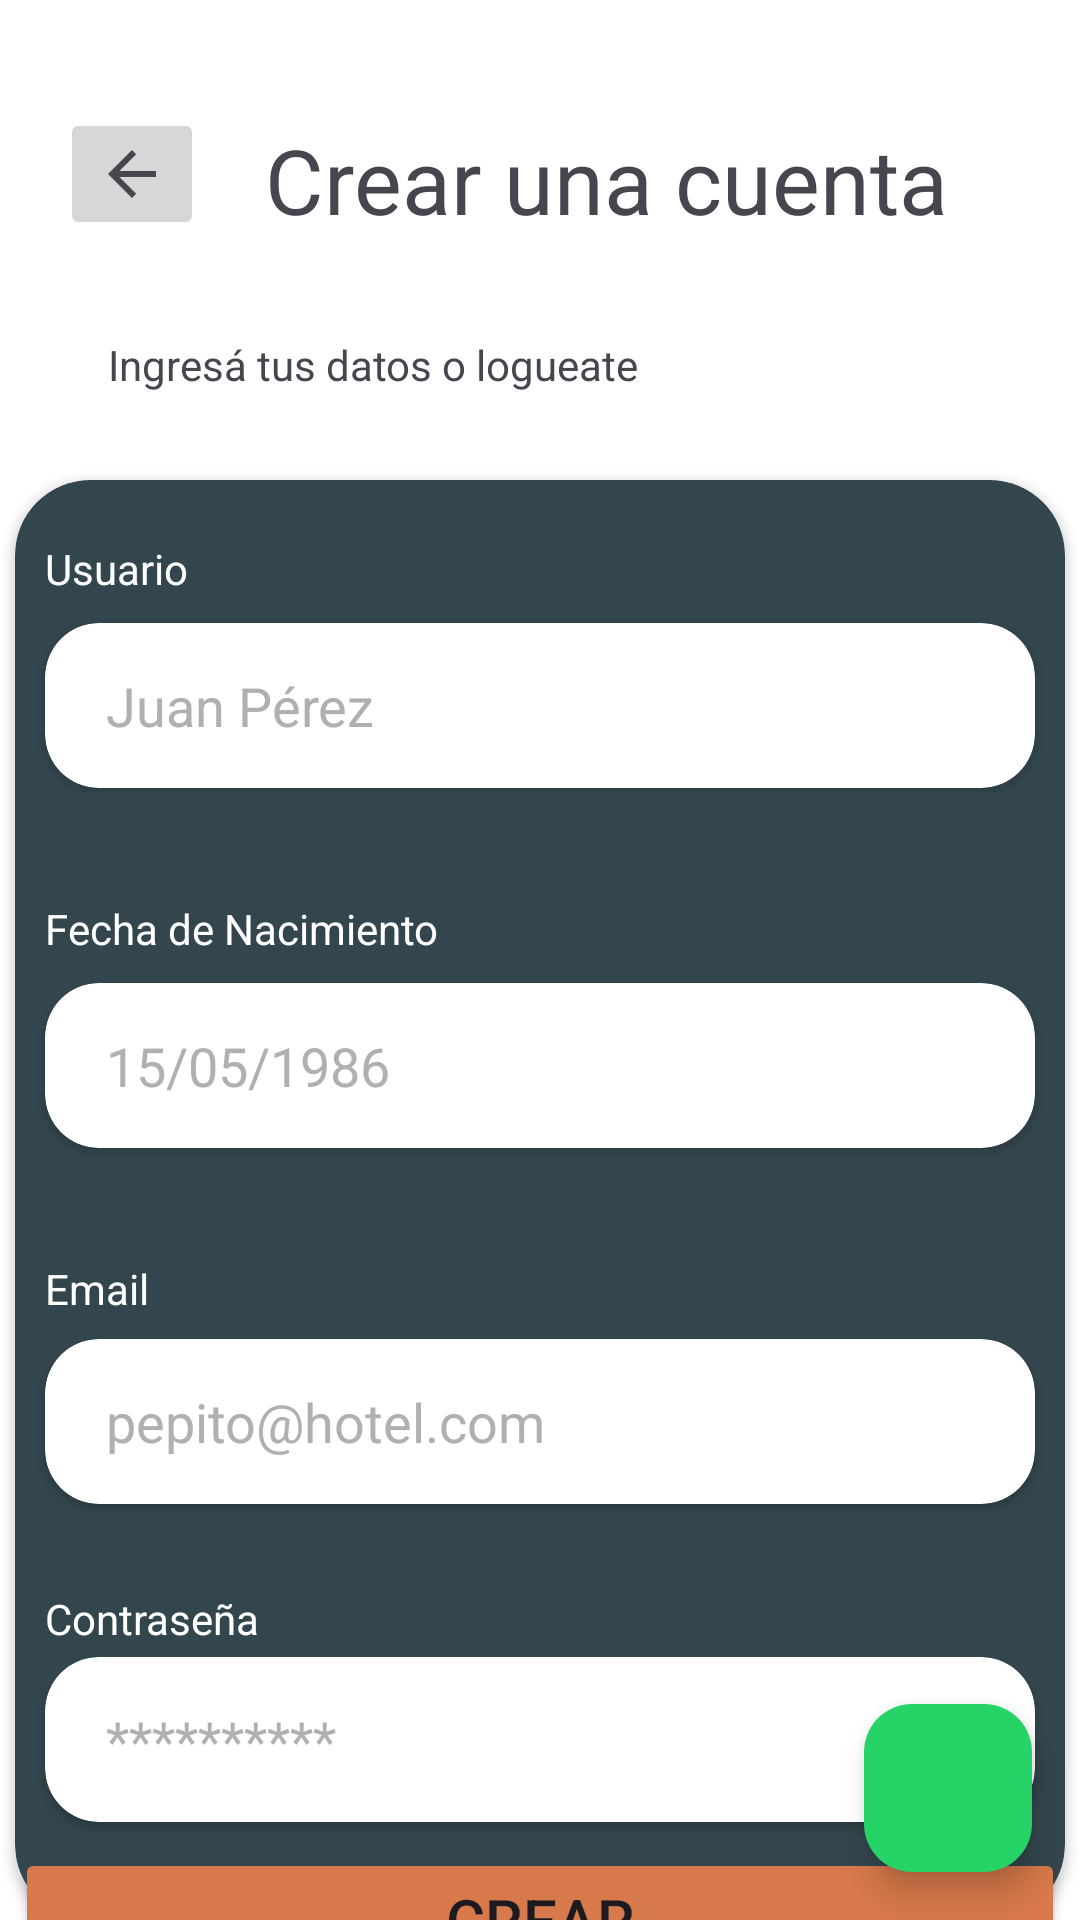

Screen size 1080px×1920px. Icon name, then its box in pixels as (x1,y1,x2,y2):
volver: (72,126,192,222)
